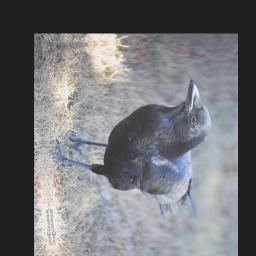Crow: (48, 78, 221, 227)
